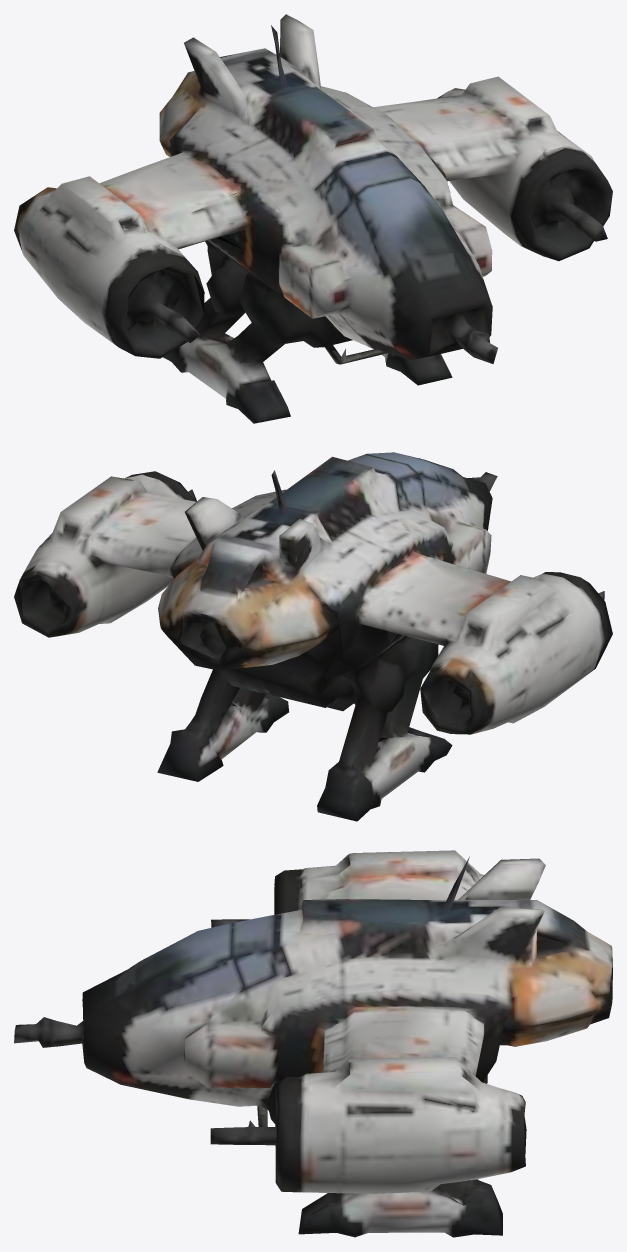
File: detail_7_lo2.glb
The picture shows the model from 3 angles, top to bottom: view 1: azimuth 30°, elevation 25°; view 2: azimuth 150°, elevation 25°; view 3: azimuth 270°, elevation 25°; orthographic projection. The views are drawn at different scales.
Parts seen in each view (by area): view 1: Mesh_0.001; view 2: Mesh_0.001; view 3: Mesh_0.001.
Boxes of the visible parts, left/top/right/bottom form: Mesh_0.001: left=14, top=14, right=612, bottom=423; Mesh_0.001: left=14, top=452, right=612, bottom=821; Mesh_0.001: left=14, top=850, right=612, bottom=1237.
Bounding box in the file's own units: 1.01 × 0.6145 × 1.01.
Materials: 1 (1 with a texture image).
